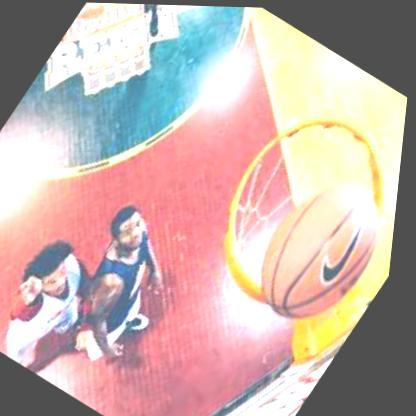basketball: (239, 161, 403, 337)
rim: (182, 86, 409, 338)
